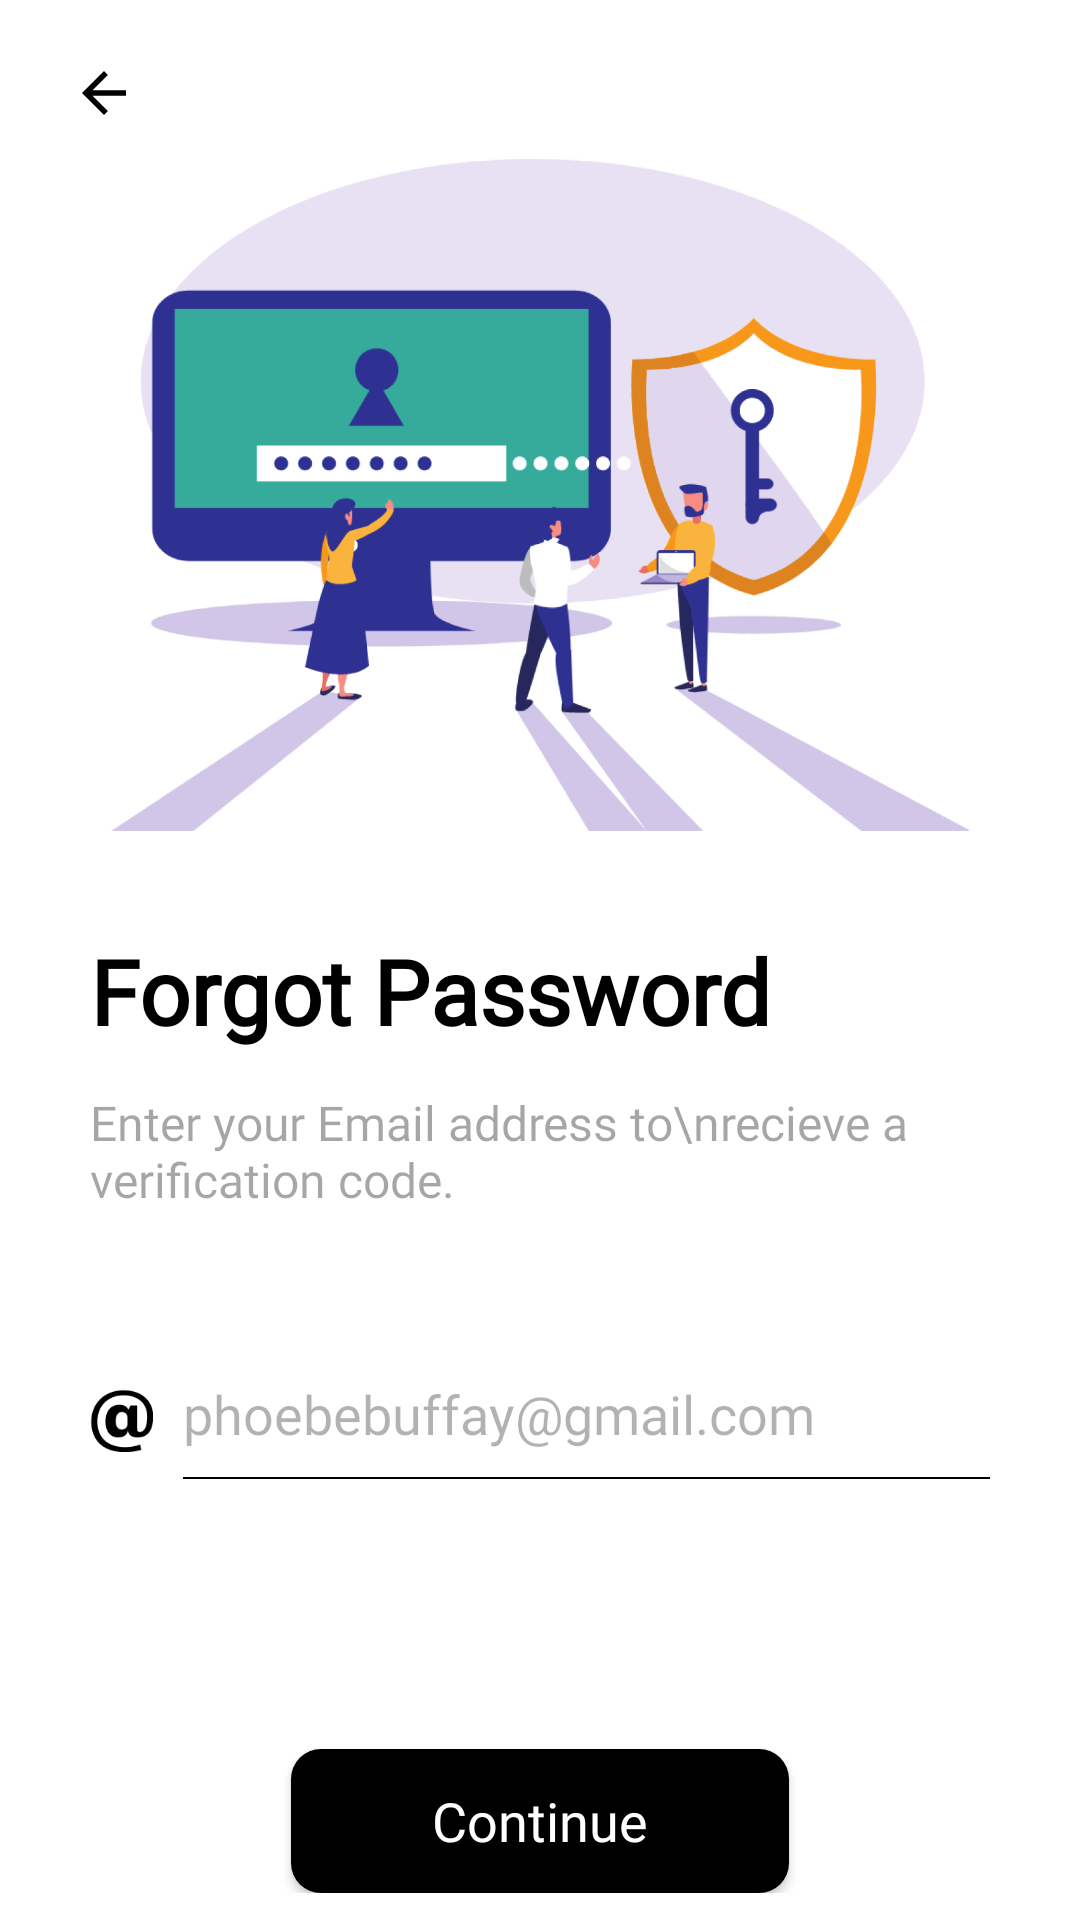

Icons on this 1080px x 1920px Android screen, each with its box as (x1, y1, x2, y2):
arrow back: (82, 71, 126, 115)
email: (91, 1390, 153, 1452)
